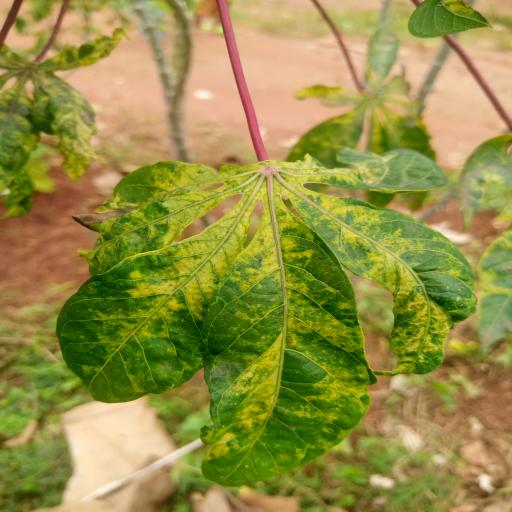Cassava_Mosaic: (58, 142, 474, 486)
